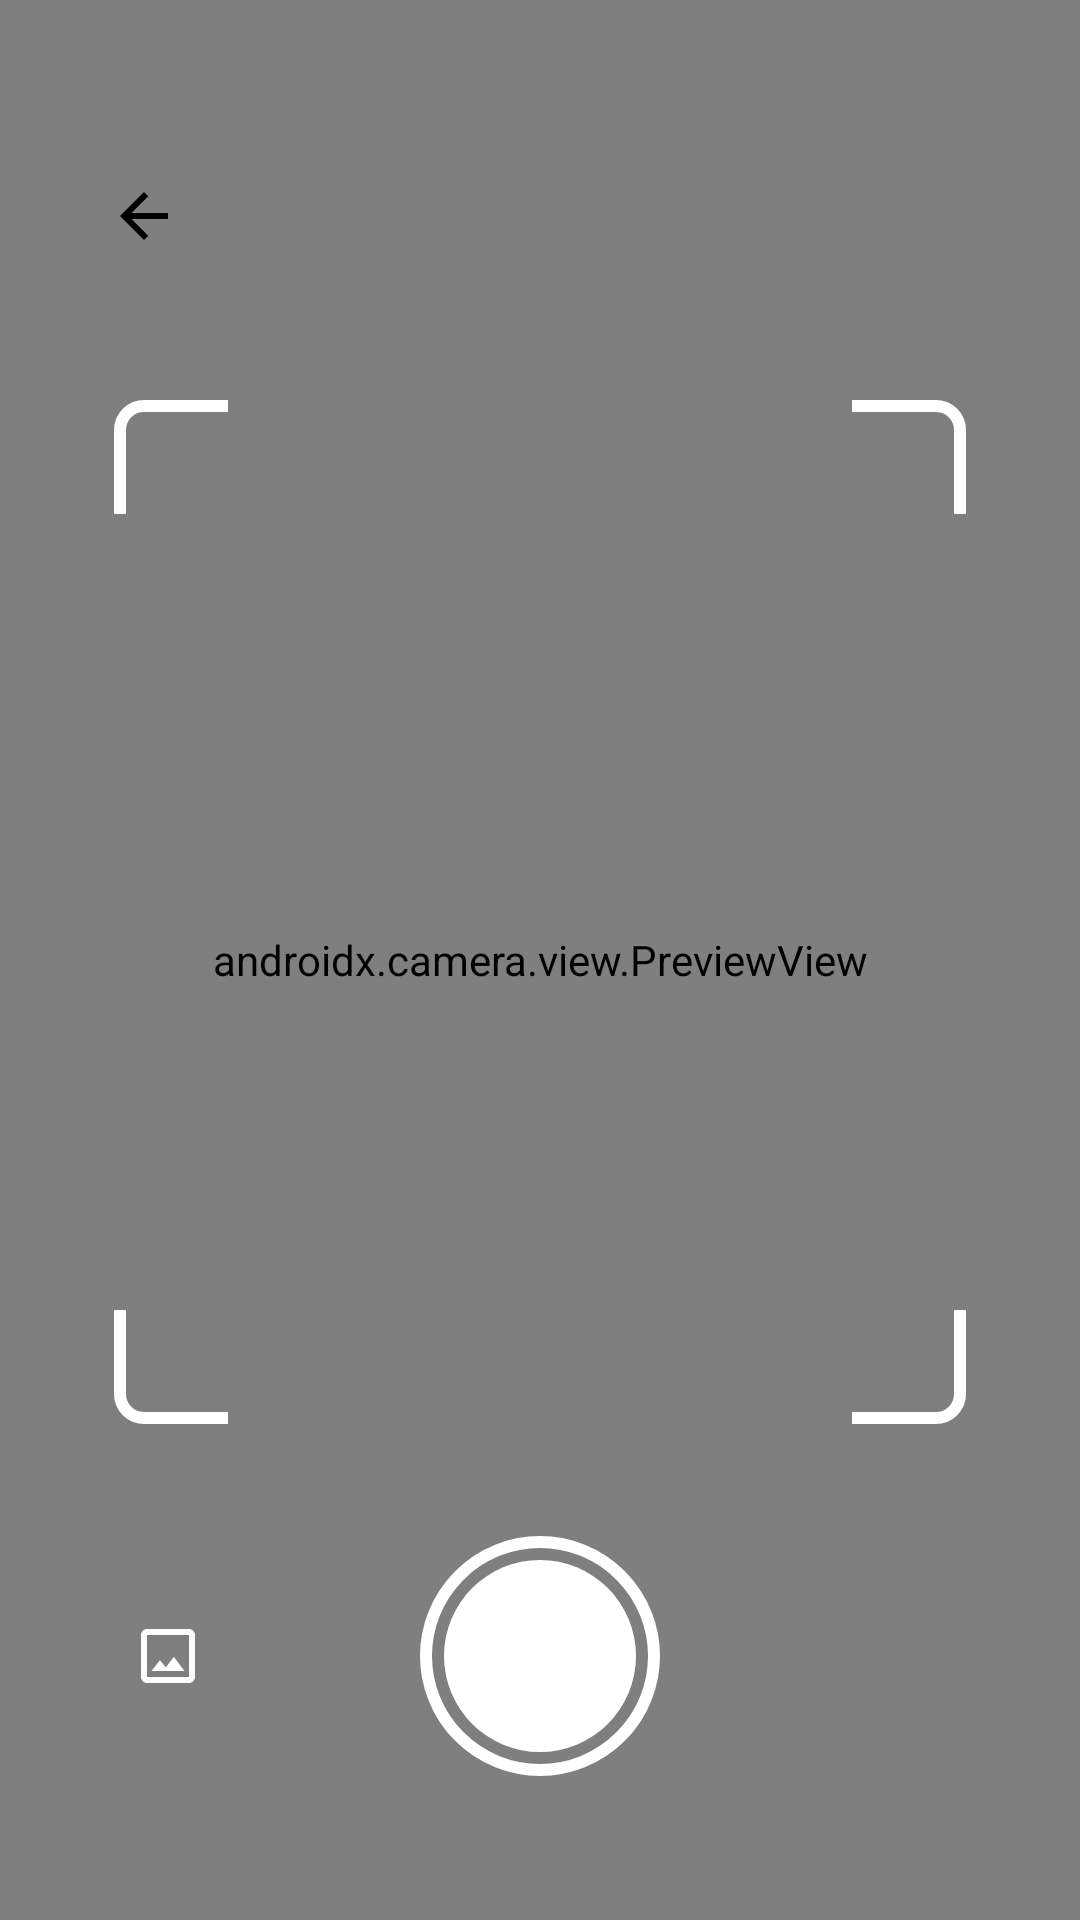

Point at icon controls on the screen. Image size 1080×1920, points as [x,y].
back: [144,216]
gallery: [168,1656]
